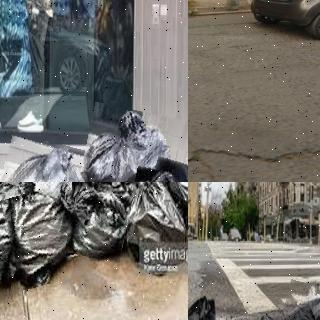Garbage: (4, 182, 87, 286), (80, 107, 188, 182), (126, 182, 188, 275), (69, 183, 131, 261), (0, 182, 30, 320), (0, 135, 83, 182), (270, 282, 320, 320)
